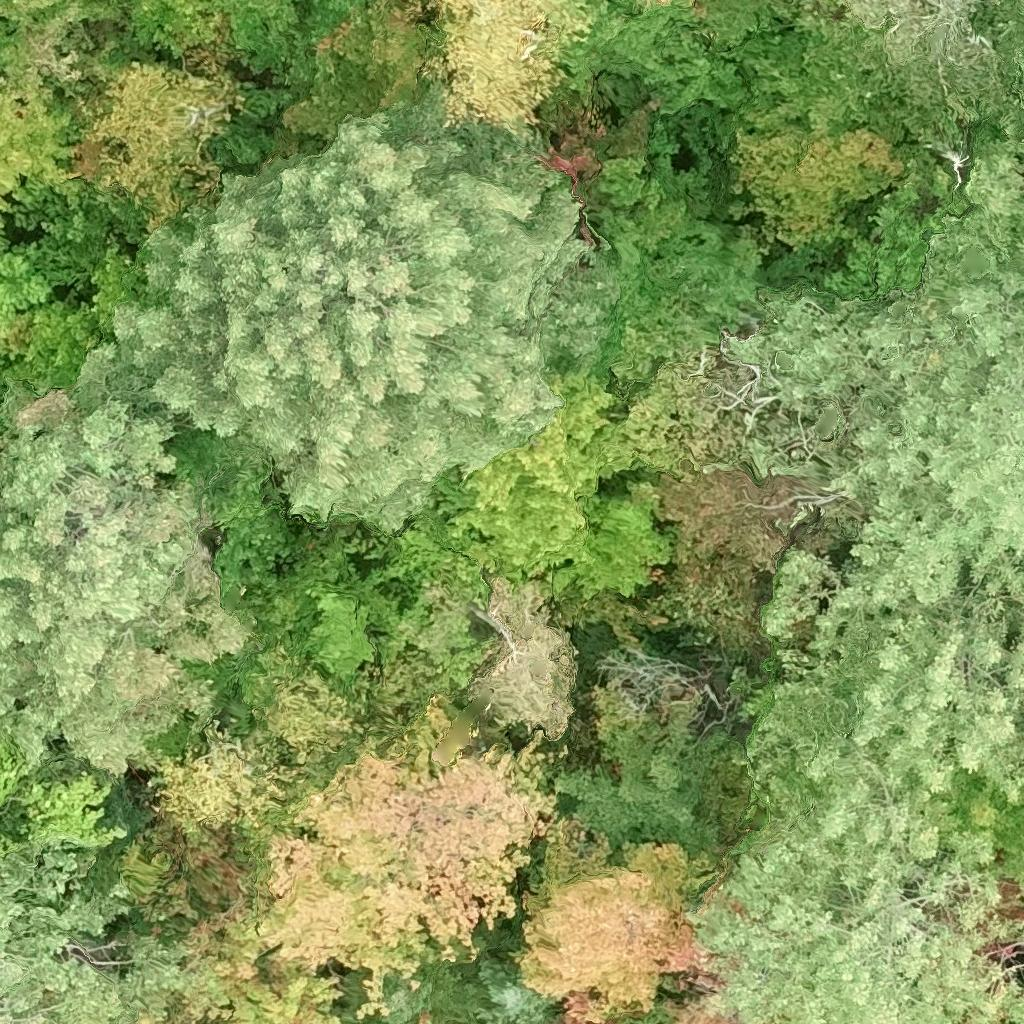crown: (108, 76, 620, 530), (736, 183, 1023, 641), (0, 337, 243, 780), (247, 691, 569, 1021), (685, 773, 1023, 1023), (371, 361, 670, 617), (746, 573, 1023, 810), (511, 818, 724, 1023), (546, 684, 746, 867), (0, 827, 182, 1023), (0, 179, 151, 411), (143, 870, 344, 1023), (70, 62, 245, 236), (0, 0, 126, 229), (607, 325, 781, 482), (795, 0, 1023, 116), (727, 110, 907, 250), (418, 0, 593, 130), (131, 720, 304, 840), (465, 578, 578, 738), (238, 645, 372, 754), (217, 0, 377, 89), (591, 642, 739, 731), (14, 765, 128, 854), (465, 956, 569, 1023), (110, 0, 226, 58), (975, 0, 1023, 84), (971, 159, 1023, 229), (0, 728, 31, 805), (666, 993, 737, 1023), (0, 838, 15, 859), (1016, 53, 1023, 92), (554, 1018, 595, 1023), (644, 0, 672, 7), (686, 0, 706, 7)
